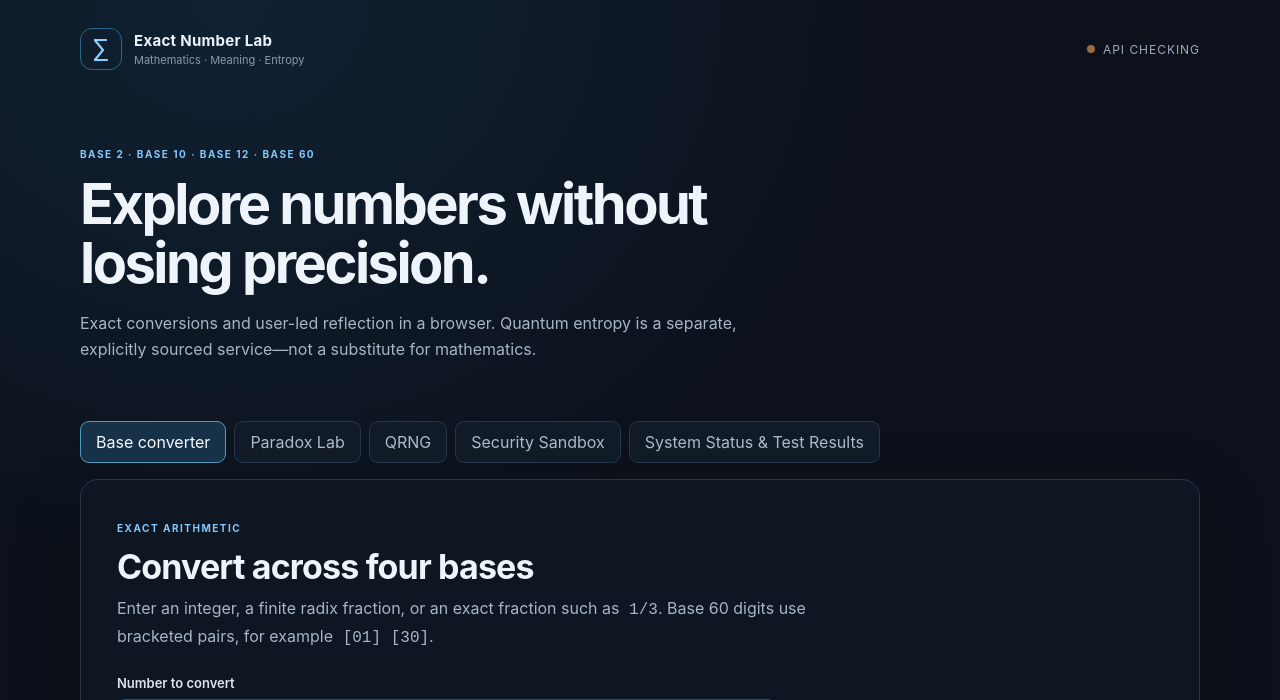
Test case: application interactions › passes the latest successful QRNG sample to the paradox math input
The image size is (1280, 700).
Click the button "QRNG" at [408, 442], box [369,420,447,462]
(page scrolled)
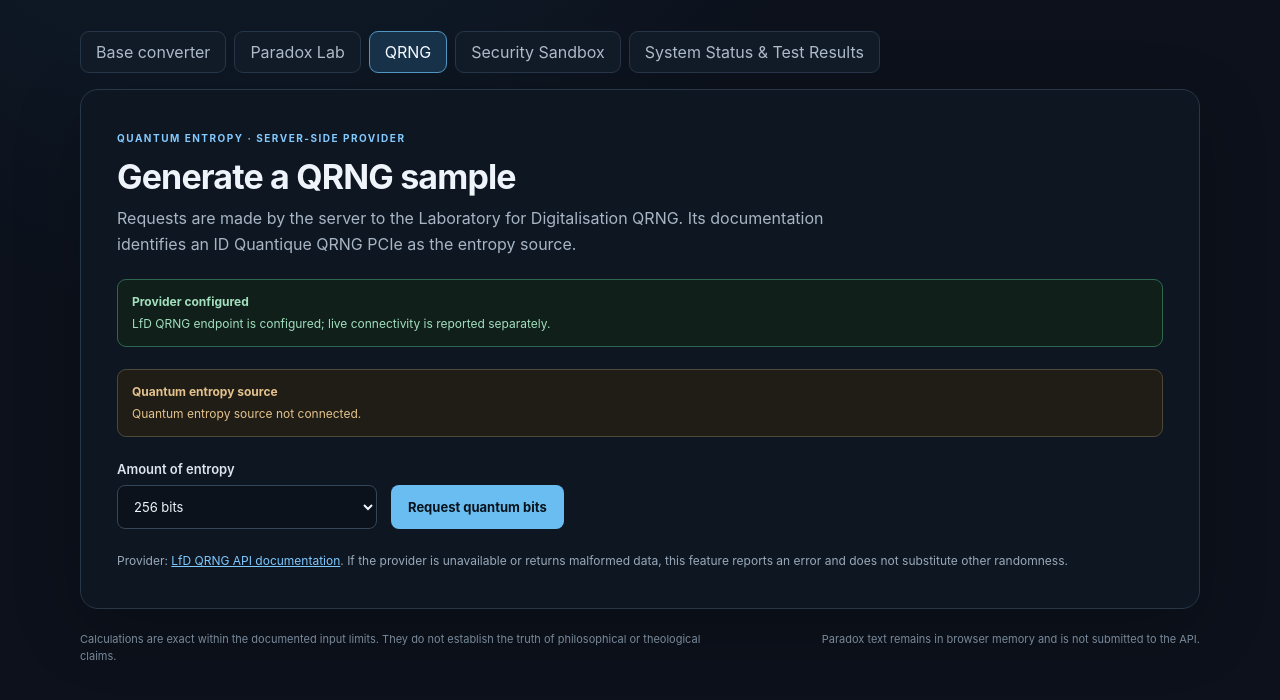
expect the button "Request quantum bits" is enabled: met, box [391,485,564,529]
Select "16 bits" in the dropdown labelled "Amount of entropy" at [247, 507], box [117,485,377,529]
Click the button "Request quantum bits" at [477, 507], box [391,485,564,529]
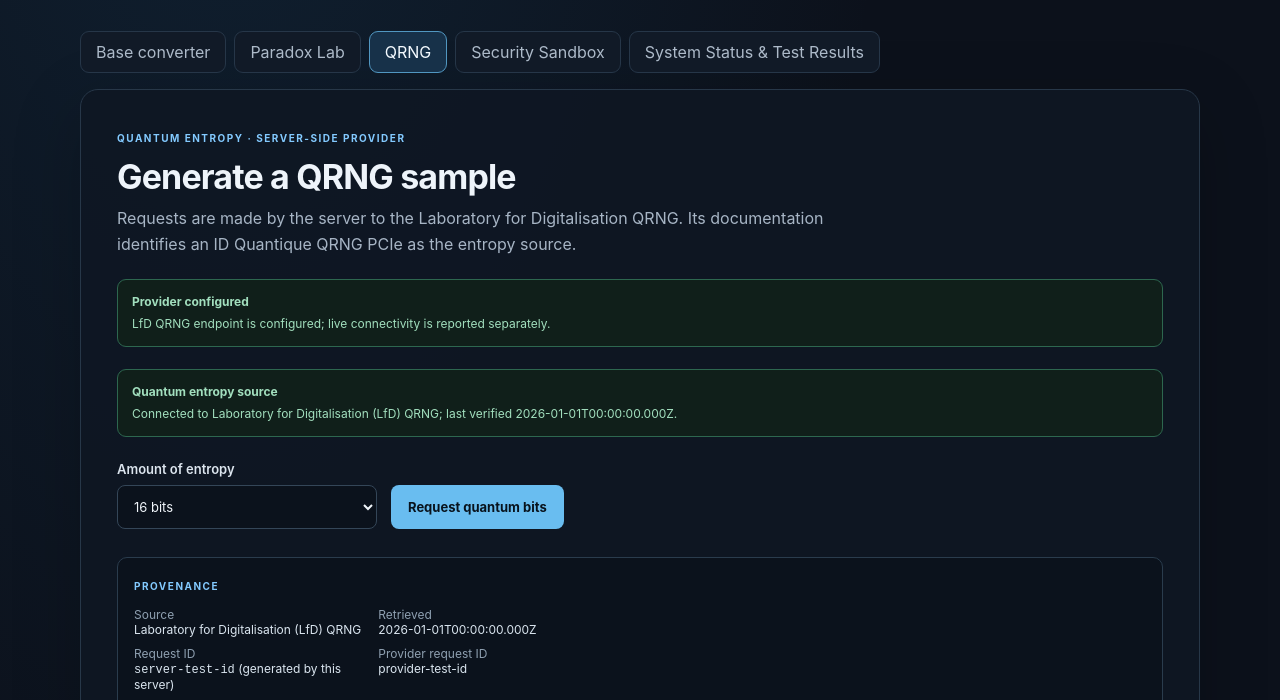
Click the button "Paradox Lab" at [298, 52], box [234,30,361,72]
(page scrolled)
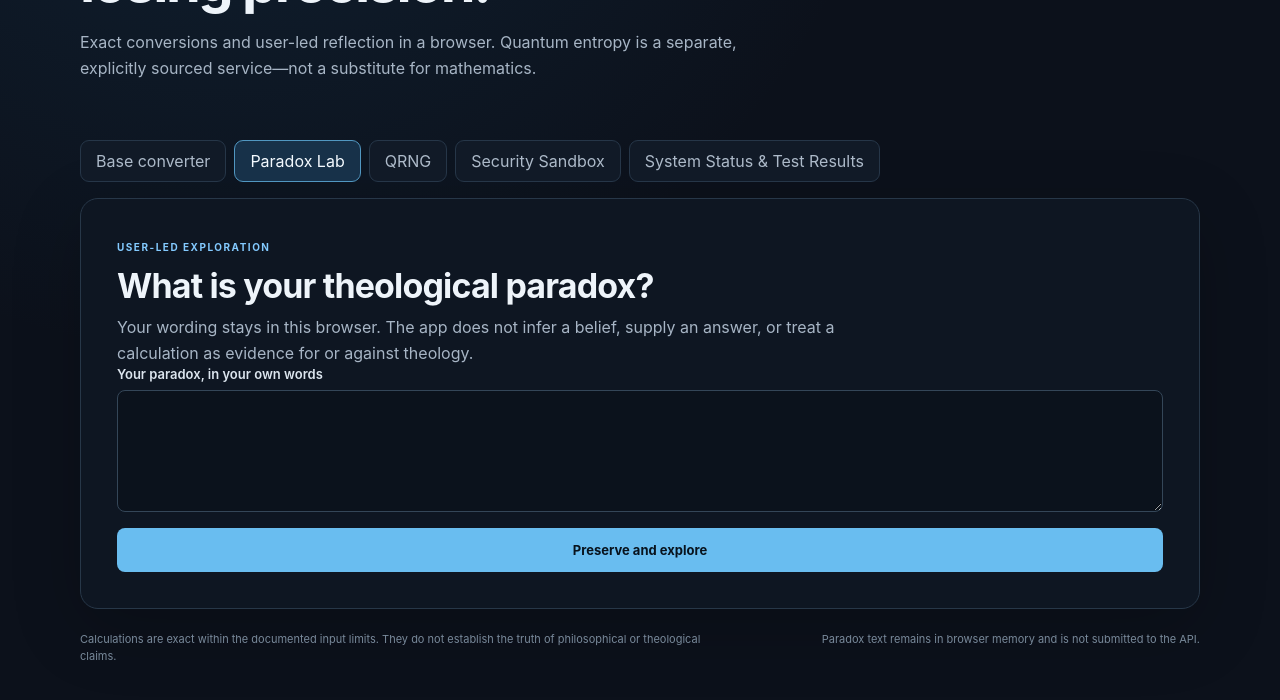
Type "A sample hypothesis." into the text box labelled "Your paradox, in your own words" at [640, 451], box [117,390,1163,512]
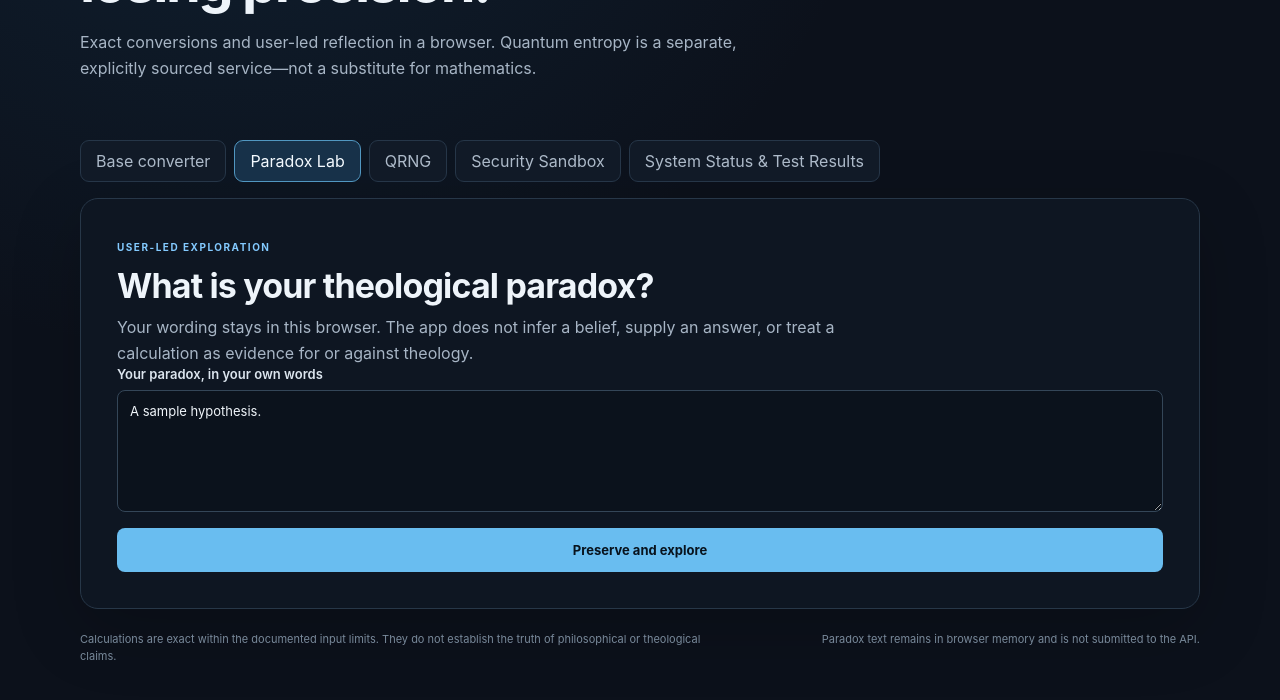
Click the button "Preserve and explore" at [640, 550], box [117,528,1163,572]
(page scrolled)
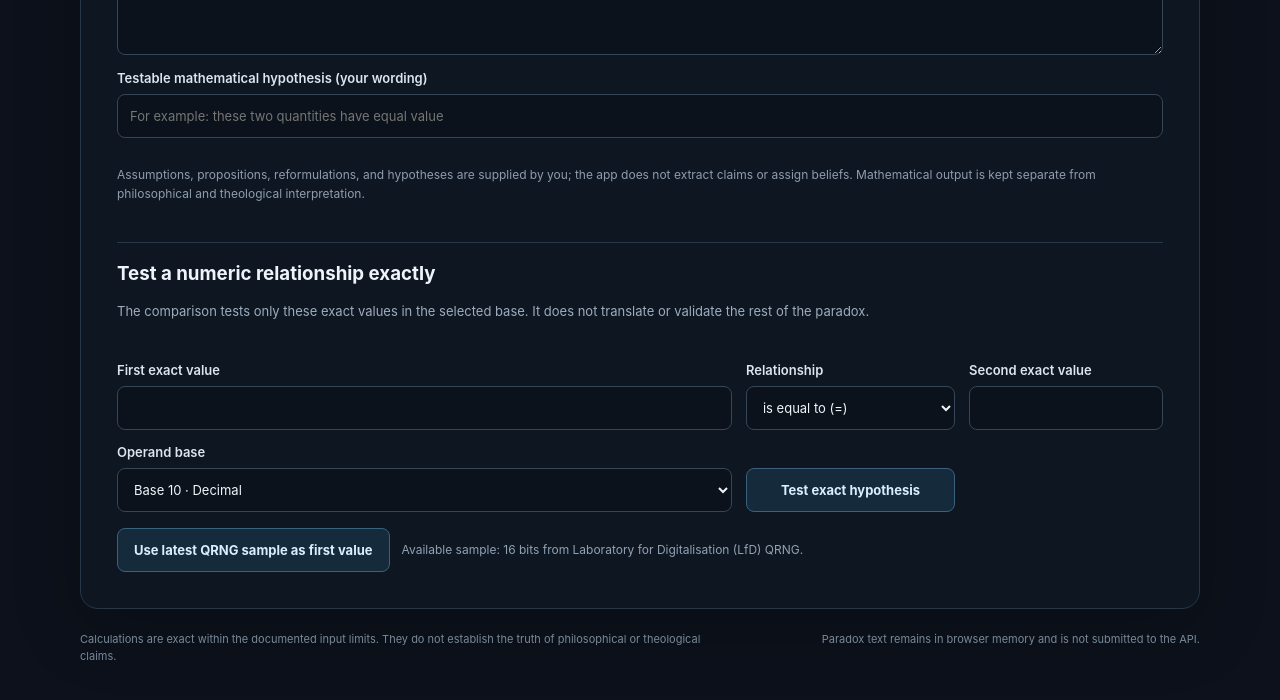
Click the button "Use latest QRNG sample as first value" at [253, 550], box [117,528,390,572]
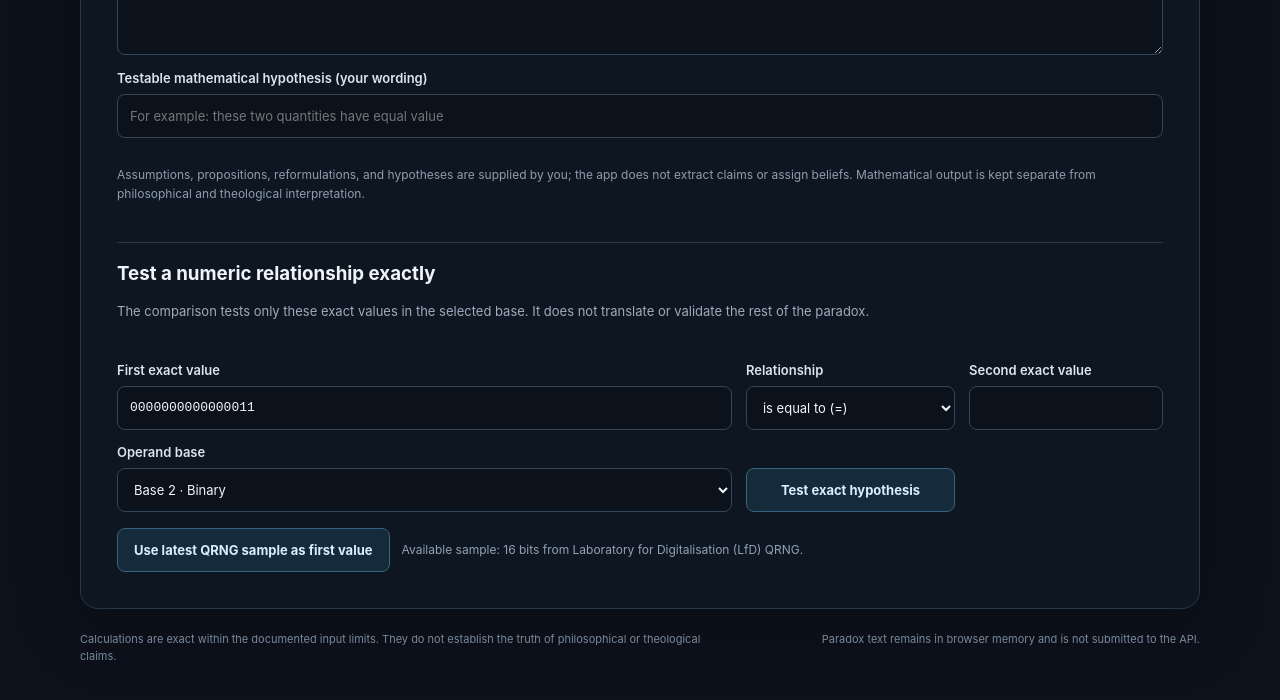
expect the field labelled "First exact value" holds "0000000000000011": met, box [117,386,732,430]
expect the dropdown labelled "Operand base" shows "Base 2 · Binary": met, box [117,468,732,512]
